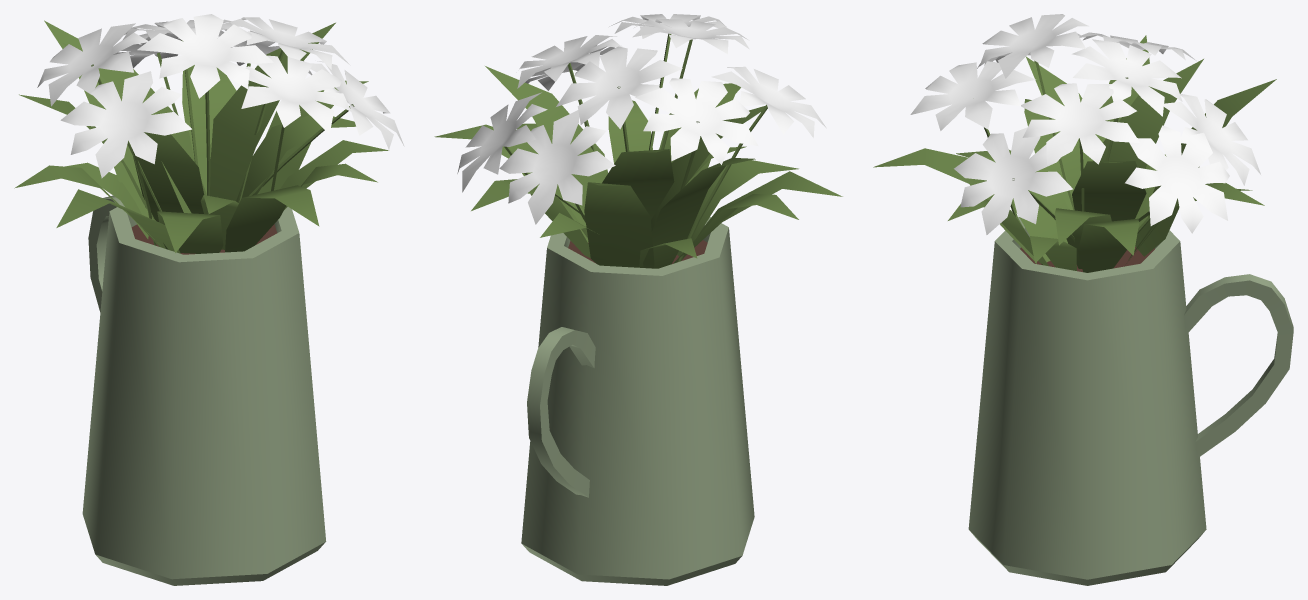
The model's file is Flowers_01.fbx.
3 views of the same model, side by side, from view 1: azimuth 30°, elevation 25°; view 2: azimuth 150°, elevation 25°; view 3: azimuth 270°, elevation 25° (orthographic). The views are drawn at different scales.
Visible parts, largest first — view 1: Flowers_01; view 2: Flowers_01; view 3: Flowers_01.
Boxes of the visible parts, left/top/right/bottom form: Flowers_01: left=14, top=14, right=404, bottom=585; Flowers_01: left=434, top=14, right=842, bottom=585; Flowers_01: left=873, top=14, right=1293, bottom=585.
Bounding box in the file's own units: 0.3397 × 0.4646 × 0.3543.
